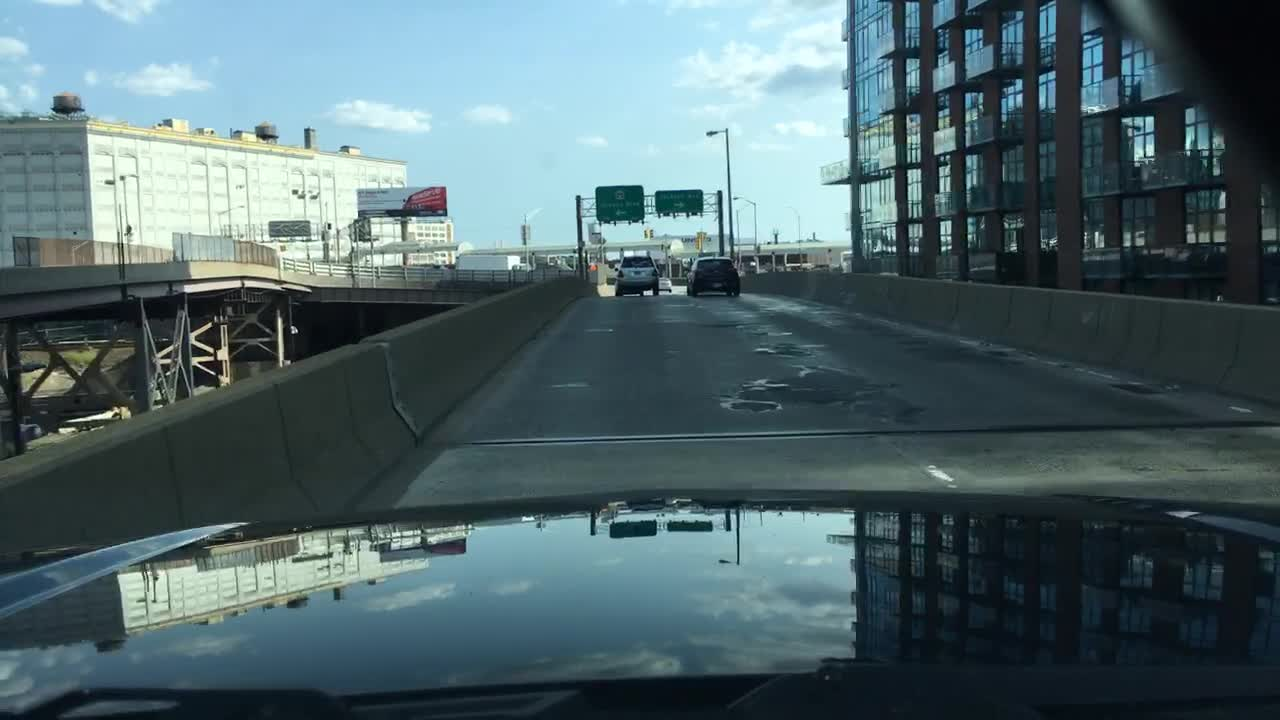car: (686, 253, 742, 298), (611, 255, 660, 296), (657, 277, 671, 291)
traffic light: (694, 233, 701, 251), (649, 222, 655, 242), (643, 224, 649, 239)
traffic sign: (596, 185, 642, 224), (653, 190, 701, 214), (268, 218, 310, 239)
truck: (452, 249, 531, 271)
